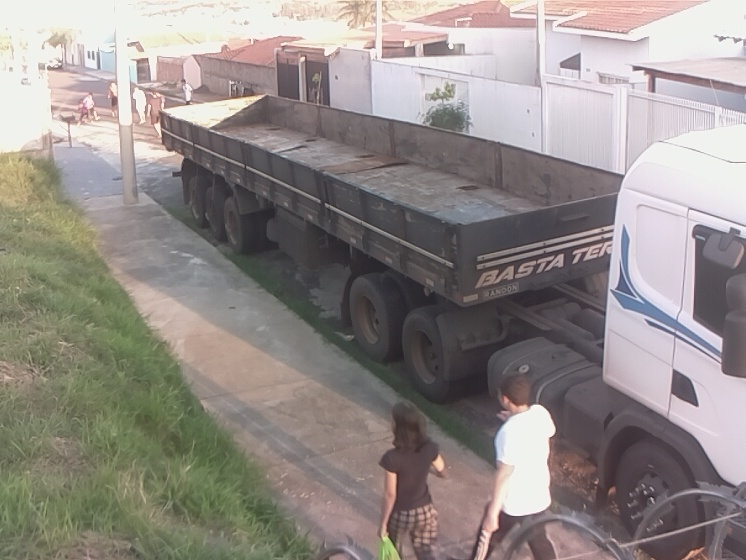person: (471, 372, 562, 560), (377, 399, 450, 560), (147, 89, 170, 139), (131, 85, 153, 125), (83, 91, 102, 123), (179, 77, 195, 106), (110, 81, 119, 119)
